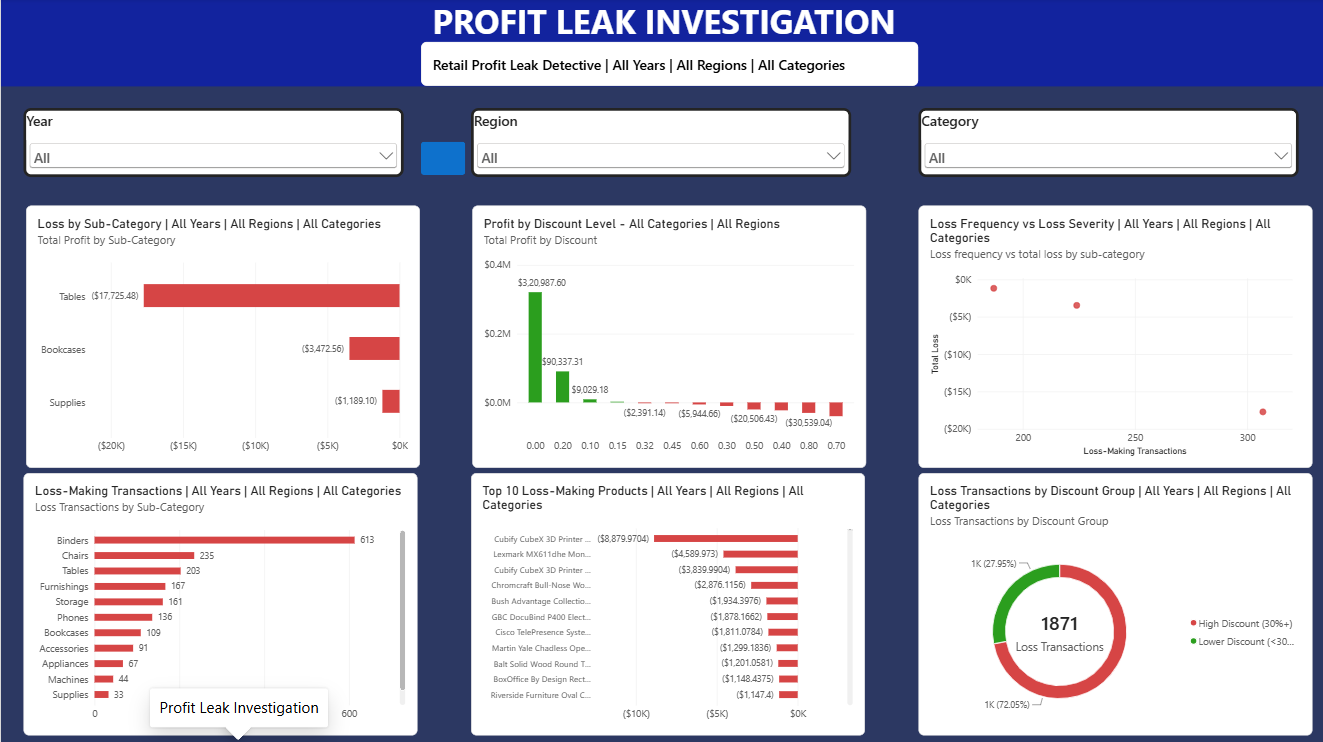

Layout of this report page (visuals, bound fields, positions):
{"tool":"powerbi","page":{"name":"Profit Leak Investigation","canvas":[1920,1080],"ordinal":1},"visuals":[{"type":"textbox","box":[0,0,1920,128],"z":0},{"type":"clusteredBarChart","title":"Loss by Sub-Category","fields":{"Category":["superstore_cleaned.Sub-Category"],"Y":["superstore_cleaned.Total Profit"]},"box":[36,300,570,380],"z":1000},{"type":"clusteredColumnChart","title":"Profit by Discount Level","fields":{"Category":["superstore_cleaned.Discount"],"Y":["superstore_cleaned.Total Profit"]},"box":[682,300,570,380],"z":2000},{"type":"clusteredBarChart","title":"Loss-Making Transactions by Sub-Category","fields":{"Category":["superstore_cleaned.Sub-Category"],"Y":["superstore_cleaned.Loss Transactions"]},"box":[33,688,570,380],"z":3000},{"type":"clusteredBarChart","title":"Top 10 Loss-Making Products","fields":{"Category":["superstore_cleaned.Product Name"],"Y":["superstore_cleaned.Total Profit"]},"box":[680.5,688,570,380],"z":4000},{"type":"scatterChart","title":"Loss Frequency vs Loss Severity","fields":{"Category":["superstore_cleaned.Sub-Category"],"X":["superstore_cleaned.Total Orders"],"Y":["superstore_cleaned.Total Profit"]},"box":[1328,300,570,380],"z":5000},{"type":"donutChart","title":"Loss Transactions by Discount Group","fields":{"Category":["superstore_cleaned.Discount Group","superstore_cleaned.Discount"],"Y":["superstore_cleaned.Loss Transactions"]},"box":[1328,688,570,380],"z":6000},{"type":"slicer","title":"Year","fields":{"Values":["superstore_cleaned.Order Date.Variation.Date Hierarchy.Year"]},"box":[32,160,550,100],"z":7000},{"type":"slicer","title":"Region","fields":{"Values":["superstore_cleaned.Region"]},"box":[680,160,550,100],"z":8000},{"type":"slicer","title":"Category","fields":{"Values":["superstore_cleaned.Category"]},"box":[1328,160,550,100],"z":9000}]}

Visuals, with their boxes in screenshot pixels (x1, y1, x2, y2), scaled from the page's 1920x1080 canvas onto the 1323x742 screenshot:
textbox: [left=0, top=0, right=1322, bottom=88]
"Loss by Sub-Category" clusteredBarChart: [left=25, top=206, right=418, bottom=467]
"Profit by Discount Level" clusteredColumnChart: [left=470, top=206, right=863, bottom=467]
"Loss-Making Transactions by Sub-Category" clusteredBarChart: [left=23, top=473, right=416, bottom=734]
"Top 10 Loss-Making Products" clusteredBarChart: [left=469, top=473, right=862, bottom=734]
"Loss Frequency vs Loss Severity" scatterChart: [left=915, top=206, right=1308, bottom=467]
"Loss Transactions by Discount Group" donutChart: [left=915, top=473, right=1308, bottom=734]
"Year" slicer: [left=22, top=110, right=401, bottom=179]
"Region" slicer: [left=469, top=110, right=848, bottom=179]
"Category" slicer: [left=915, top=110, right=1294, bottom=179]
